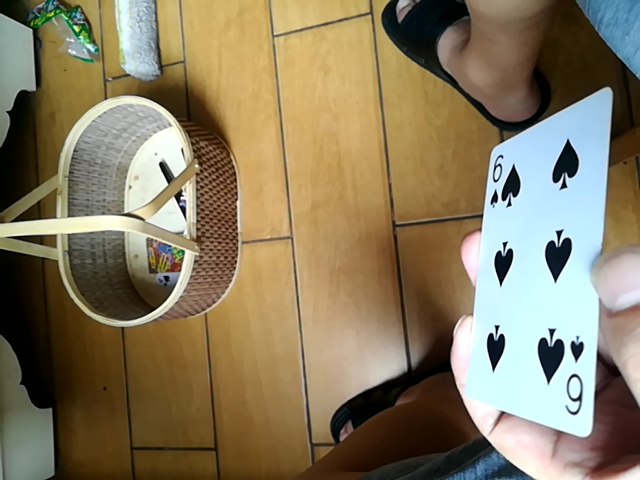ht 6: (454, 81, 603, 448)
